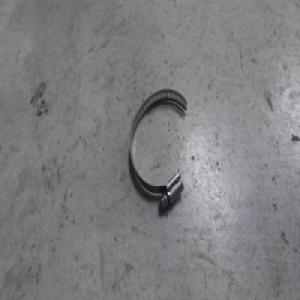AdjustableClamp: (129, 86, 192, 203)
